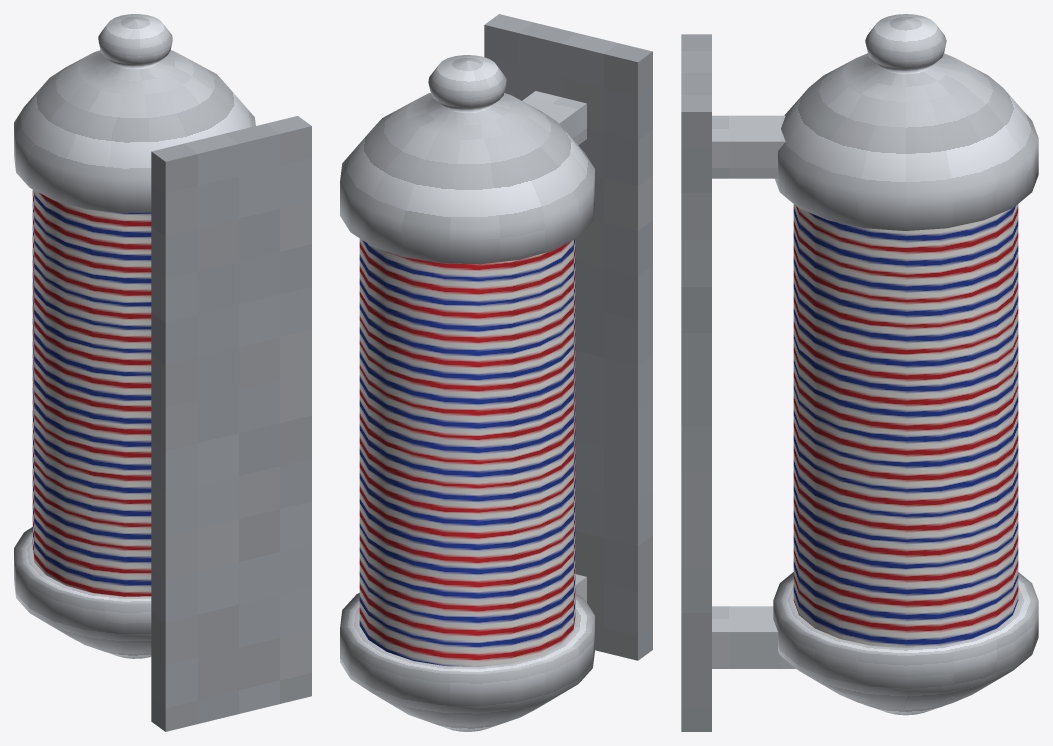
Rendered from barberpole.obj.
3 views of the same model, side by side, from view 1: azimuth 30°, elevation 25°; view 2: azimuth 150°, elevation 25°; view 3: azimuth 270°, elevation 25° (orthographic). The views are drawn at different scales.
Parts seen in each view (by area): view 1: barberpole; view 2: barberpole; view 3: barberpole.
Boxes of the visible parts, <box> form: barberpole: <box>14,14,311,731</box>; barberpole: <box>340,14,652,731</box>; barberpole: <box>681,14,1038,731</box>.
Size of the model in its own units: 0.325 by 0.9344 by 0.4375.
